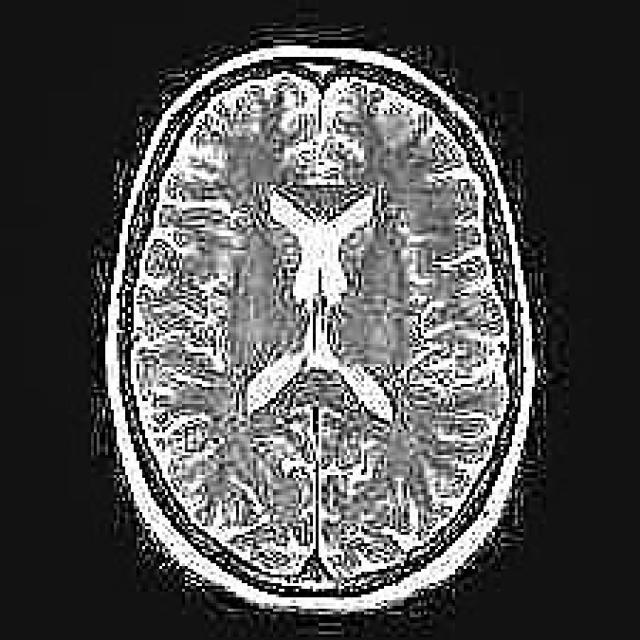notumor: (105, 46, 535, 614)
